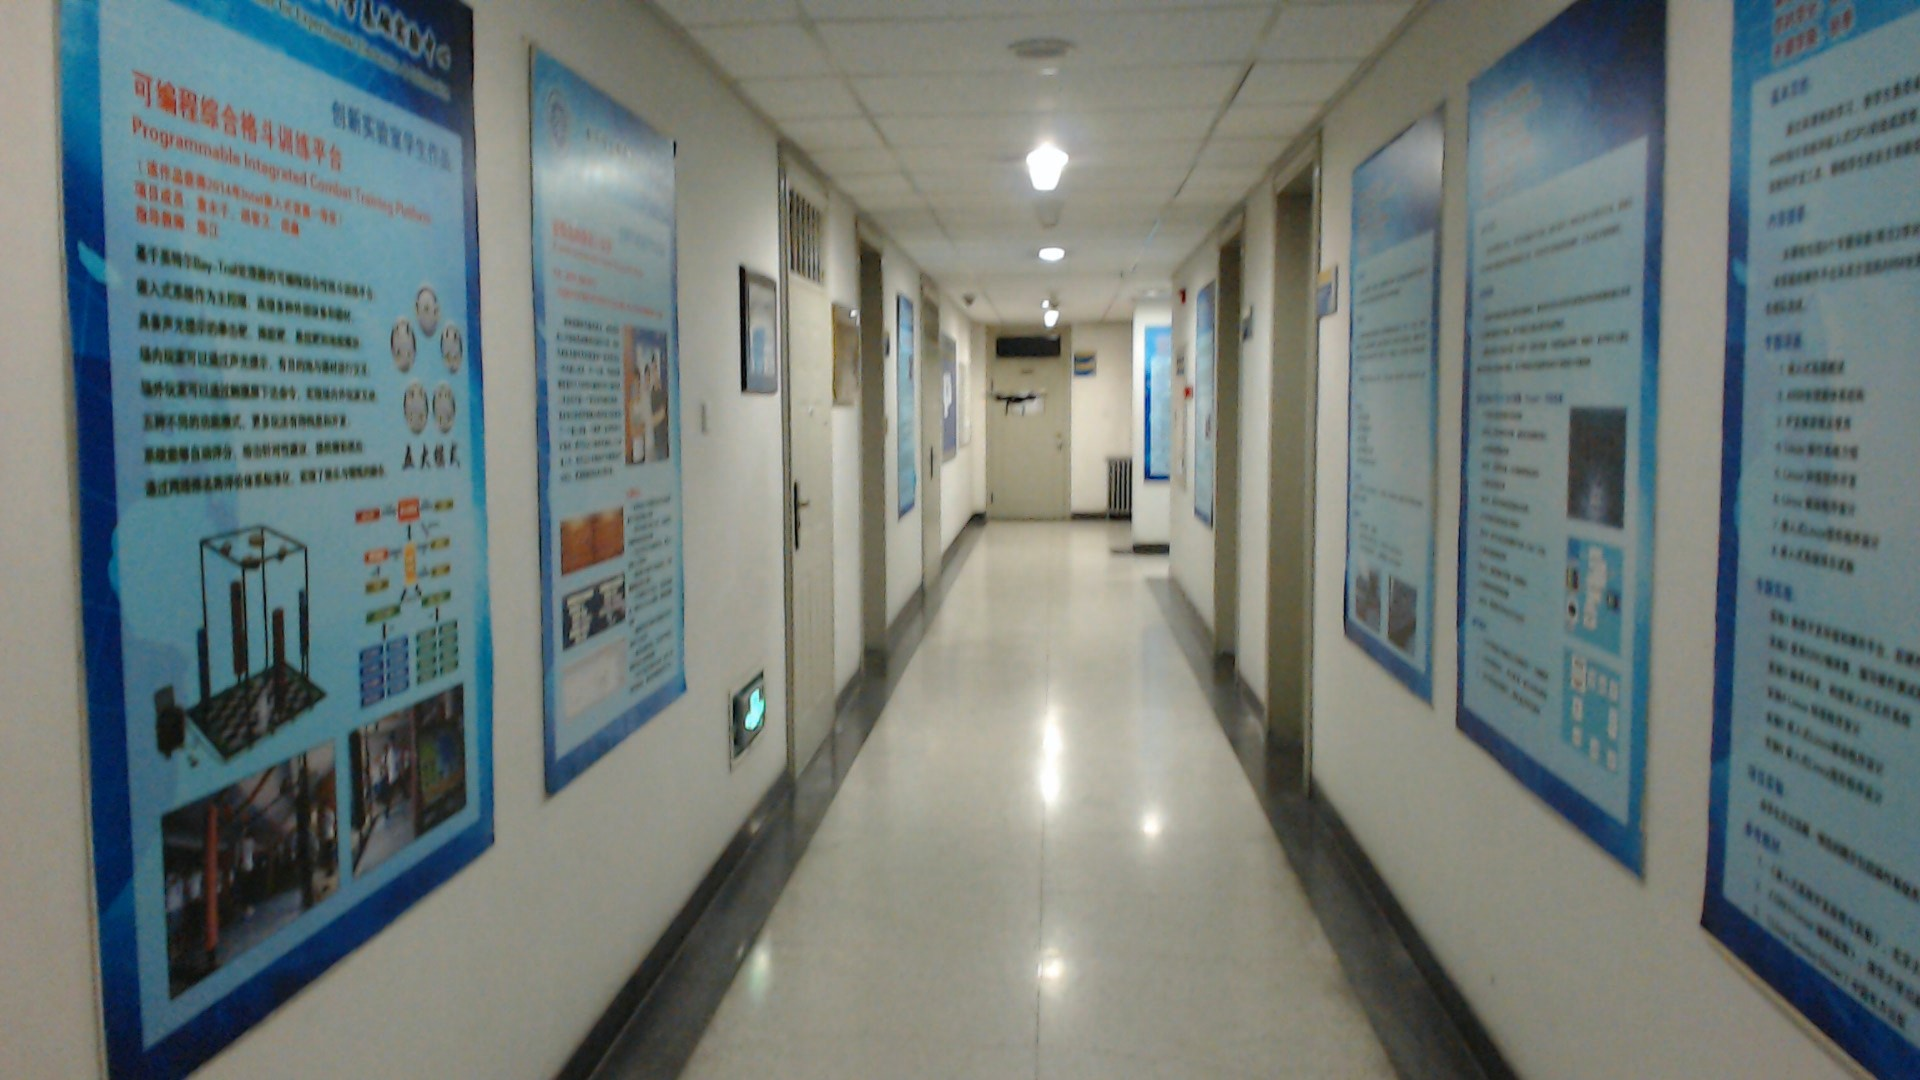test_drone: (980, 382, 1054, 425)
